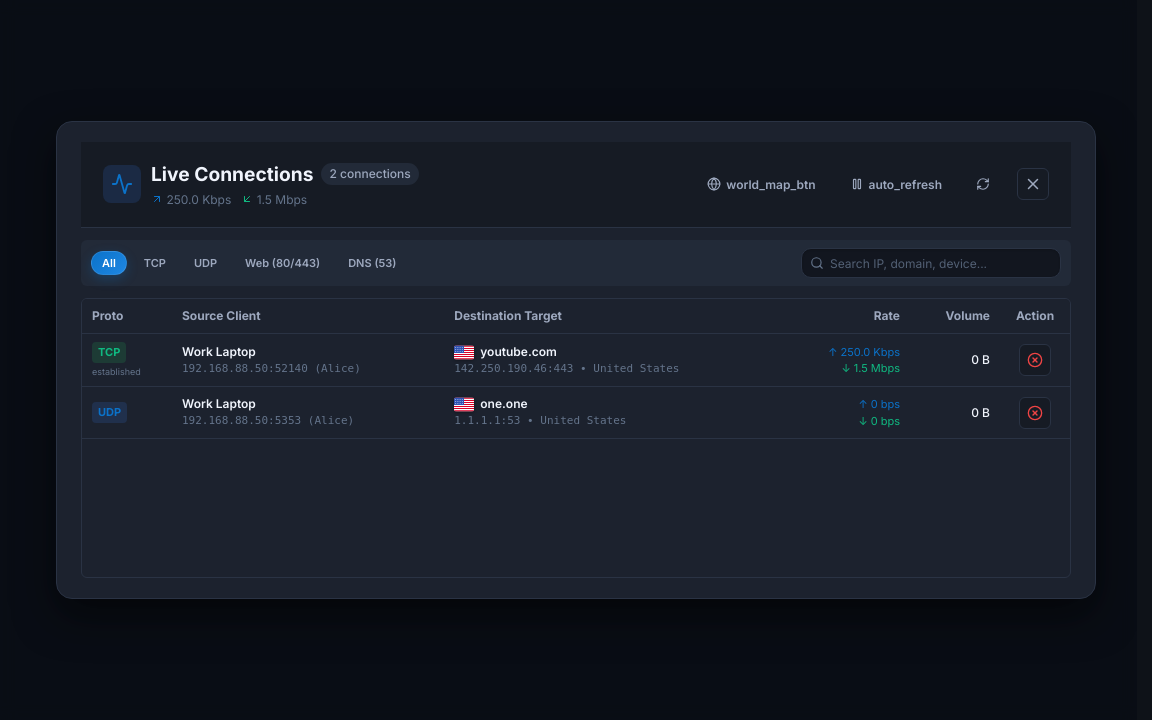
Test: LiveConnectionsModal truncation and error handling › keeps the last known-good list on screen when a poll fails, instead of showing empty
The width and height of the screenshot is (1152, 720).
Expected: the text "youtube.com" is shown, [480,343,557,361]
Click the button titled "Refresh": (983,184) [963,168,1003,200]
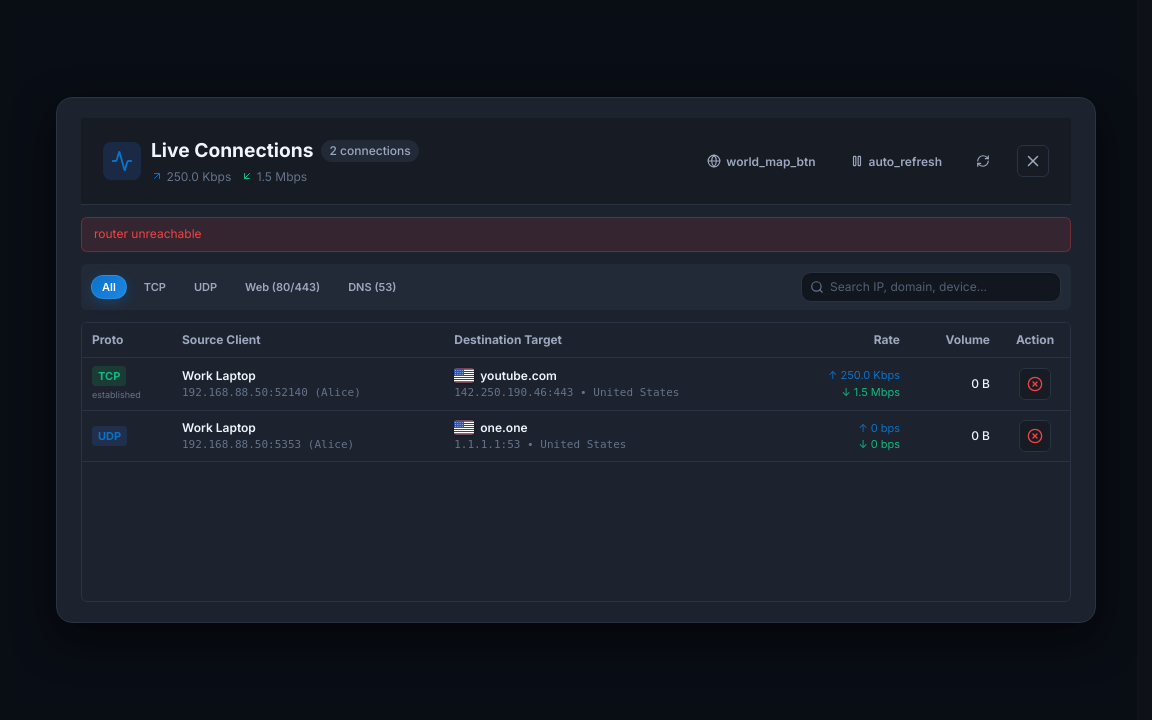
Expected: the text "youtube.com" is shown, [480,366,557,384]
Expected: the text "router unreachable" is shown, [81,217,1071,252]
